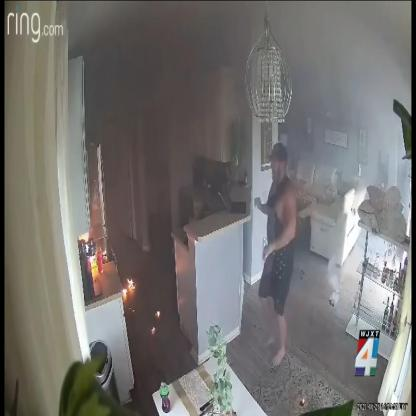fire: (123, 278, 135, 296), (151, 326, 155, 334), (156, 311, 160, 317)
